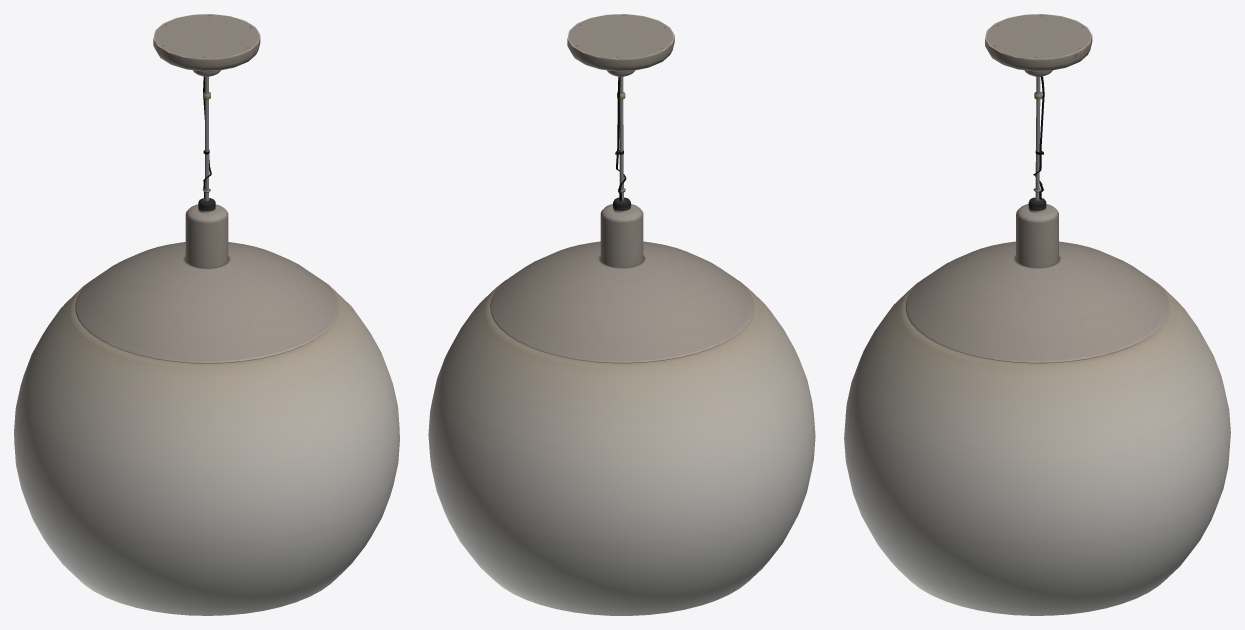
Rendered from bathroom-pendant.glb.
3 renders of one model, left to right at view 1: azimuth 30°, elevation 25°; view 2: azimuth 150°, elevation 25°; view 3: azimuth 270°, elevation 25°, orthographic.
Visible parts, largest first — view 1: SUB01_RealBathroomPendant_PolyHaven; view 2: SUB01_RealBathroomPendant_PolyHaven; view 3: SUB01_RealBathroomPendant_PolyHaven.
Part boxes in pixels (left/top/right/bottom): SUB01_RealBathroomPendant_PolyHaven: left=14, top=14, right=399, bottom=615; SUB01_RealBathroomPendant_PolyHaven: left=428, top=14, right=815, bottom=615; SUB01_RealBathroomPendant_PolyHaven: left=844, top=14, right=1230, bottom=615.
Size of the model in its own units: 0.4316 by 0.6416 by 0.4317.
Materials: 3 (3 with a texture image).
